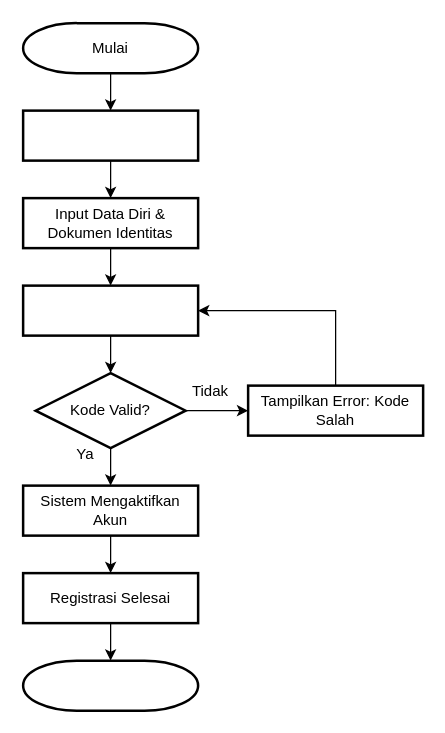
This 445x733 diagram has some shape labels left out. Here are the shapes that lost their labels. From the top down, the centre of each, then its label:
At pixel 110 135: "Buka Halaman Registrasi".
At pixel 110 310: "Kirim Kode Verifikasi (OTP/Email)".
At pixel 110 685: "Selesai".
